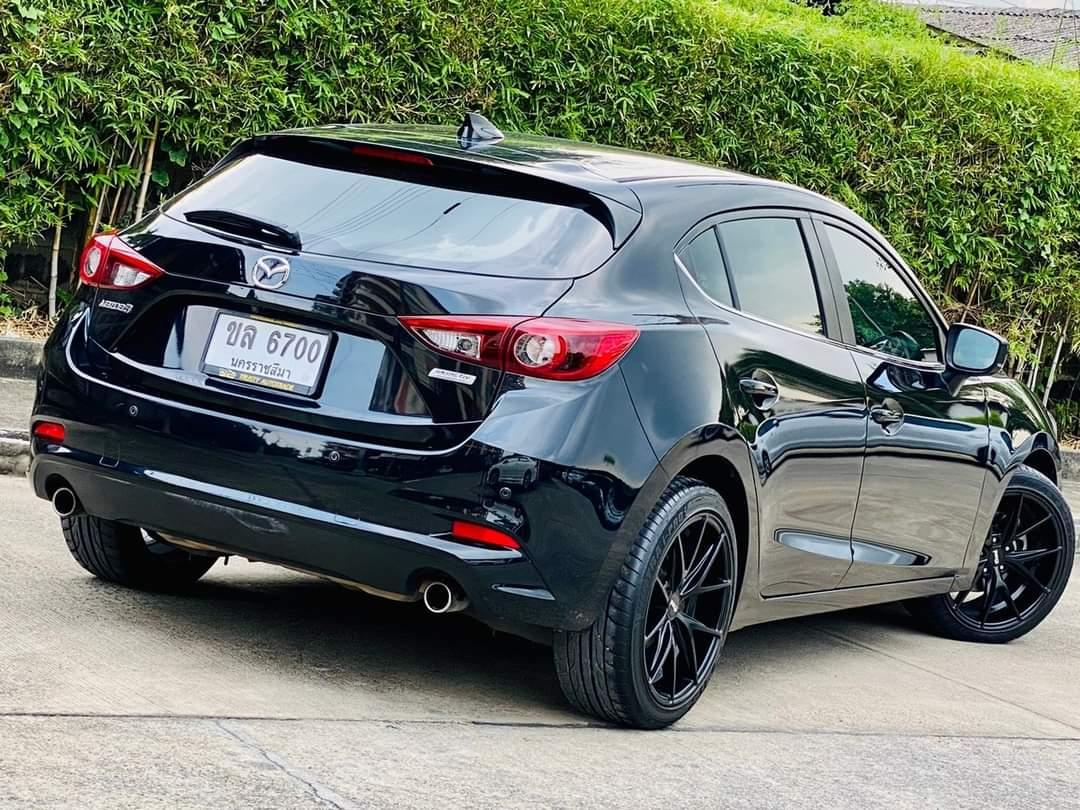license-plate: (198, 300, 338, 408)
